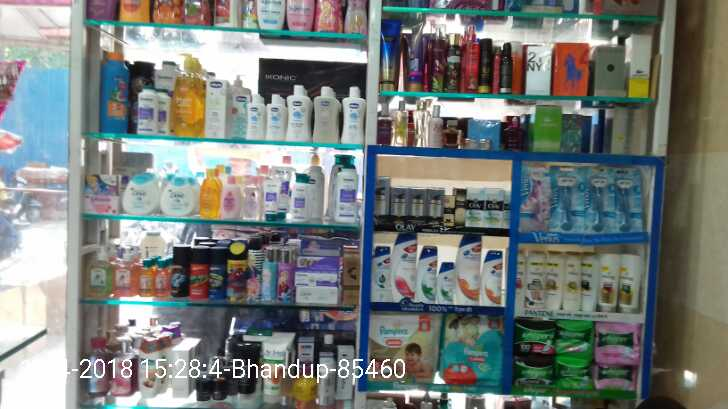venus: (582, 165, 613, 233), (551, 165, 582, 233), (520, 165, 551, 233), (613, 166, 644, 233)
